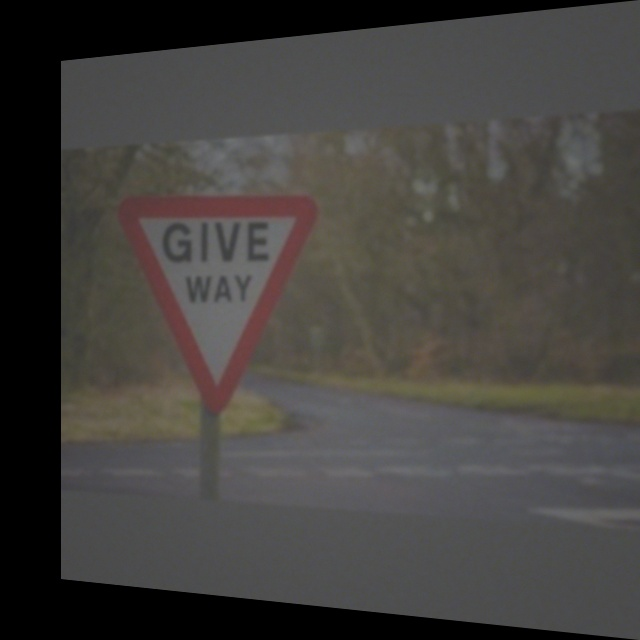Give_Way: (123, 193, 311, 406)
